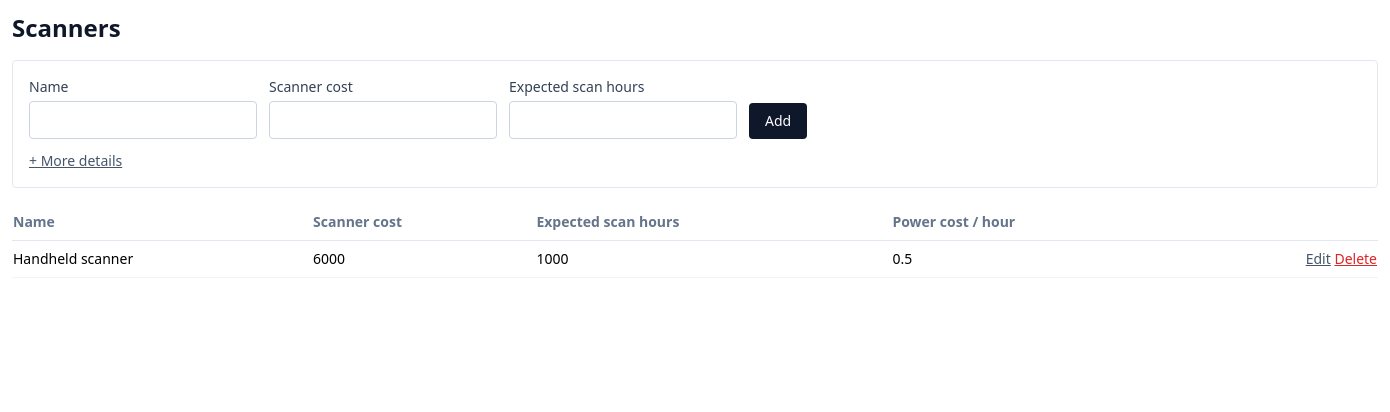
Test case: ScannersListPage — edit in place › clicking Edit shows that row pre-filled with its current values
This screenshot has width=1390, height=412.
Expected: the text "Handheld scanner" is shown, [12,240,312,278]
Click the button "Edit". click: point(1318, 259)
box: [1306,249,1331,269]
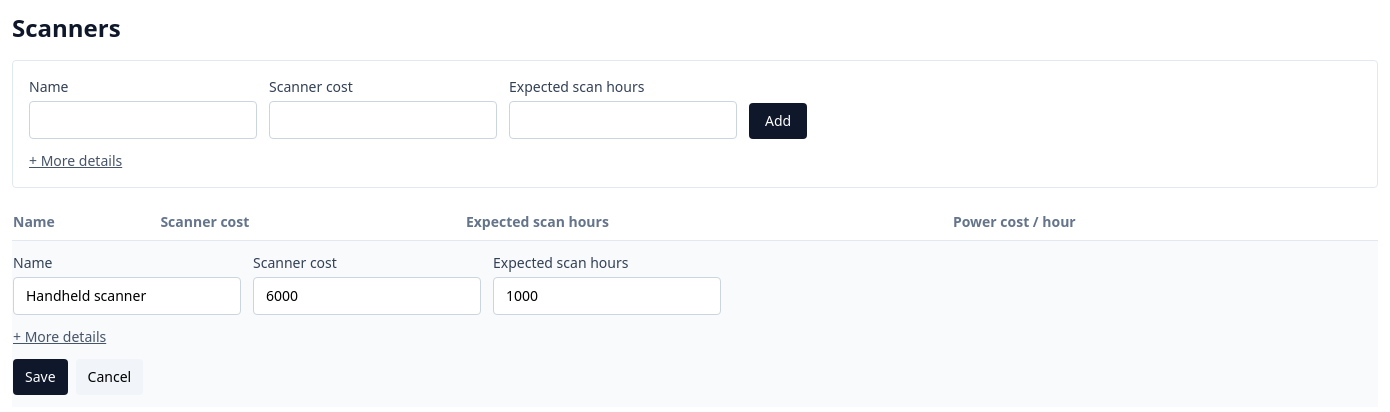
Expected: the 2nd field labelled "Name" holds "Handheld scanner", [13,277,241,315]
Expected: the 2nd number field labelled "Scanner cost" holds "6000", [253,277,481,315]
